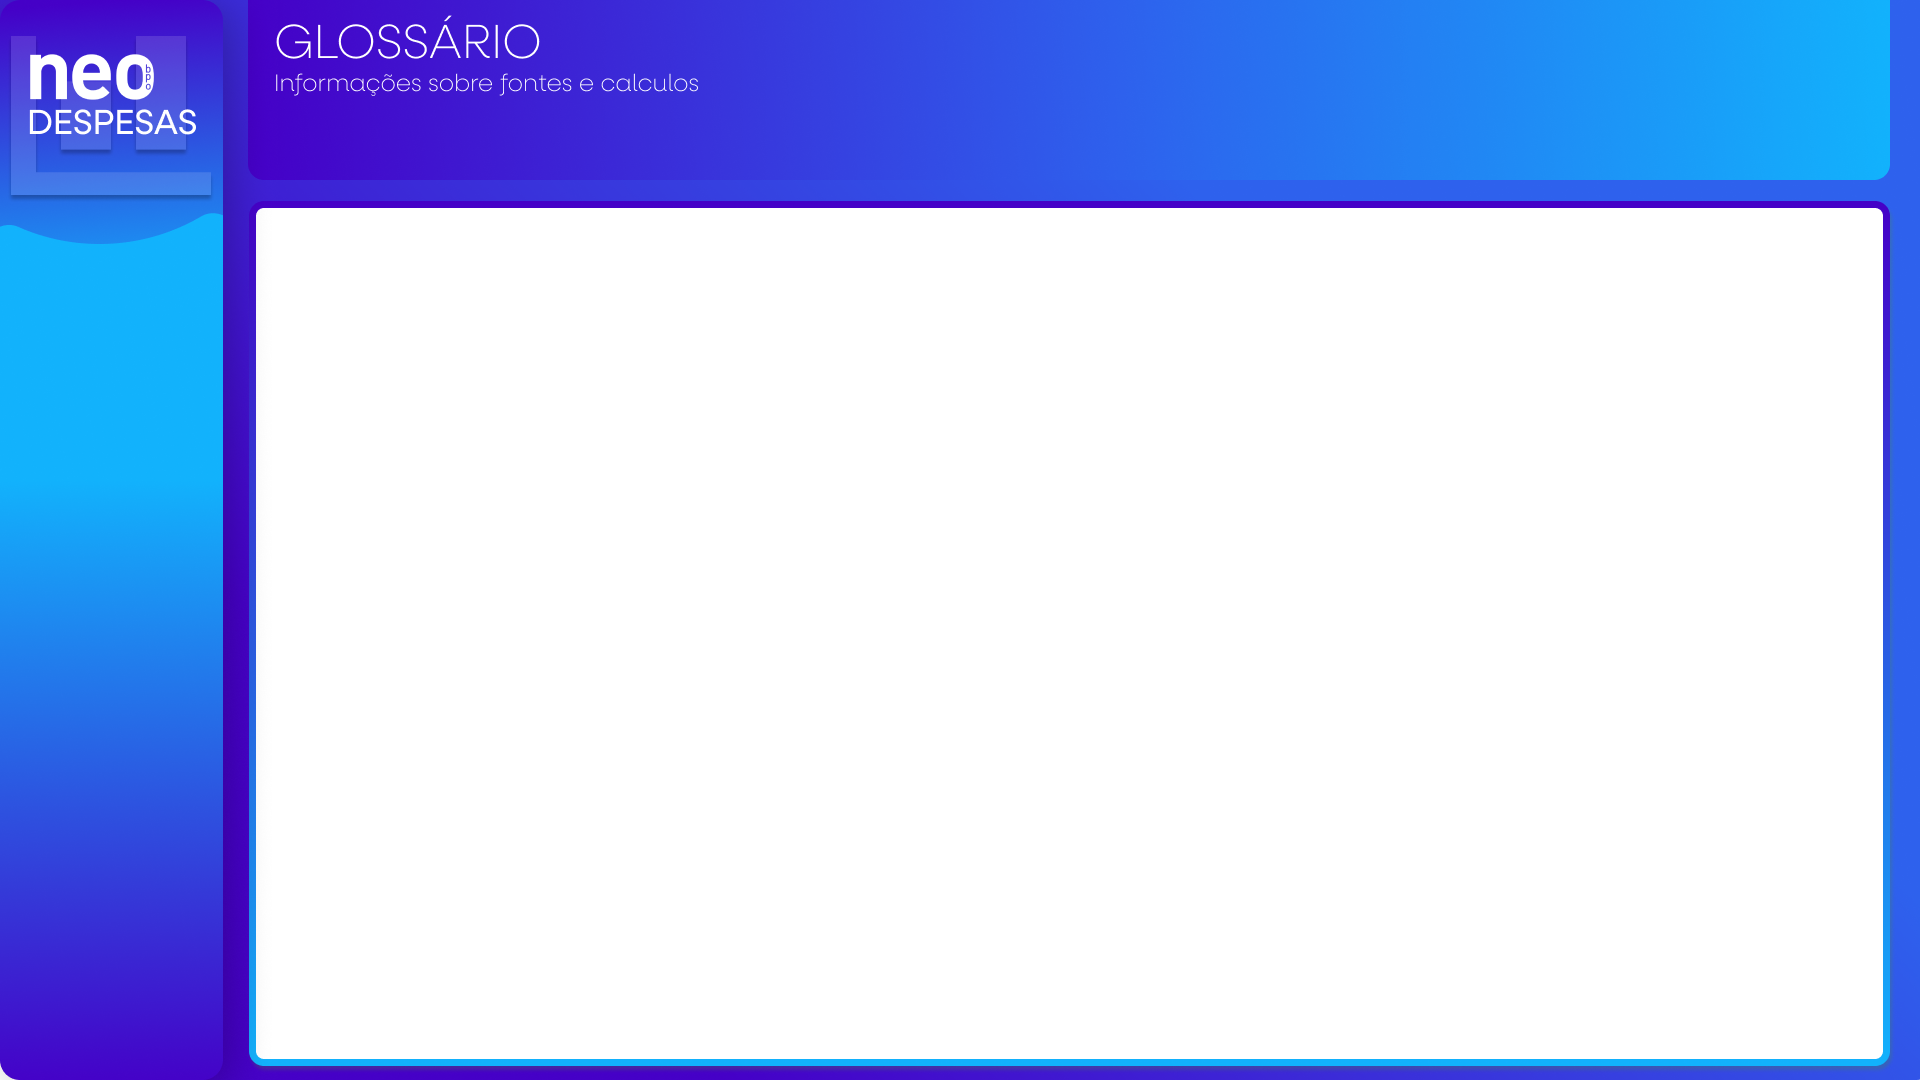

The page's visual inventory and layout, read from the dashboard file:
{"tool":"powerbi","page":{"name":"GLOSSÁRIO","canvas":[1280,720],"ordinal":4},"visuals":[{"type":"textbox","box":[178.6,144.8,1040.5,371.1],"z":0},{"type":"pageNavigator","box":[0,185.9,149.2,213.1],"z":1000}]}

Visuals, with their boxes in screenshot pixels (x1, y1, x2, y2), scaled from the page's 1280x720 canvas onto the 1920x1080 screenshot:
textbox: [268, 217, 1829, 774]
pageNavigator: [0, 279, 224, 598]
